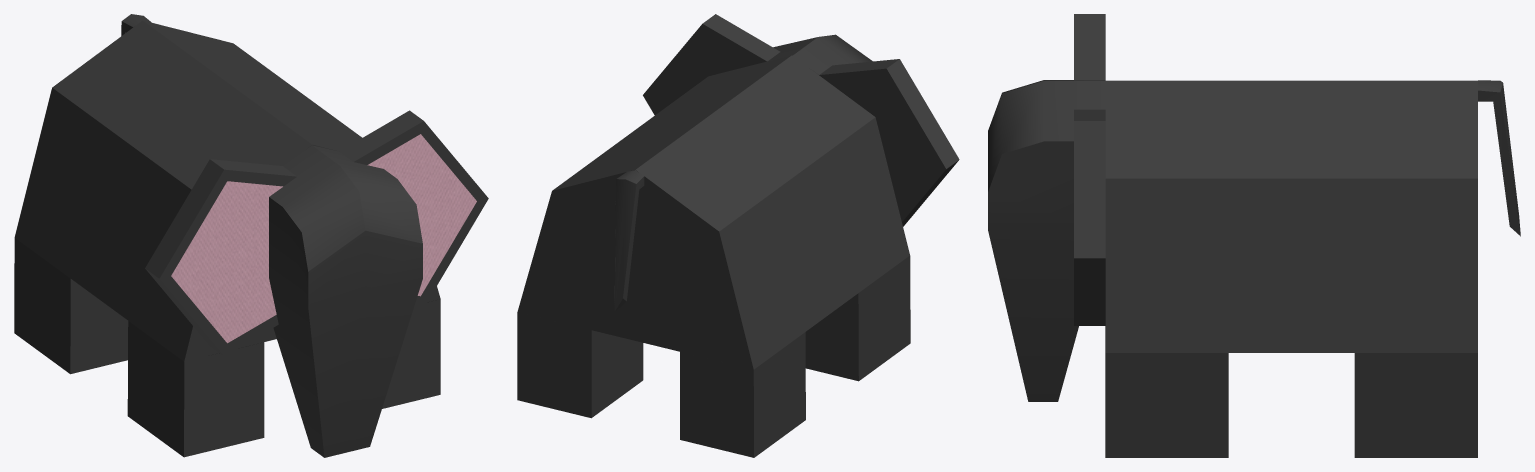
The model's file is Elephant_A.FBX.
3 views of the same model, side by side, from view 1: azimuth 30°, elevation 25°; view 2: azimuth 150°, elevation 25°; view 3: azimuth 270°, elevation 25° (orthographic). The views are drawn at different scales.
Visible parts, largest first — view 1: Elephant; view 2: Elephant; view 3: Elephant.
Boxes of the visible parts, x1,y1,x2,y2 form: Elephant: (14,14,488,457); Elephant: (517,14,959,457); Elephant: (988,14,1520,457).
Size of the model in its own units: 67.47 by 57.23 by 86.1.
